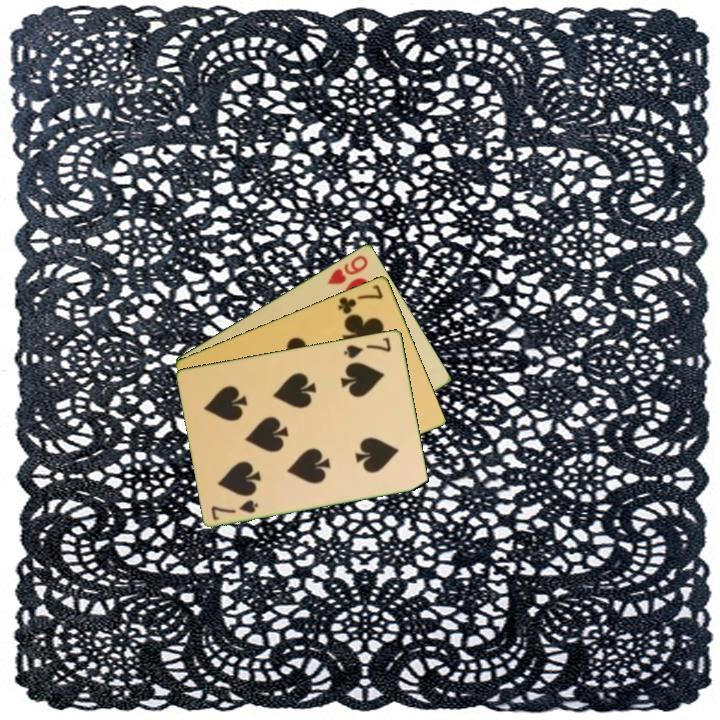7c: (334, 281, 386, 317)
7s: (341, 333, 394, 361), (208, 496, 261, 523)
9h: (324, 251, 371, 287)
